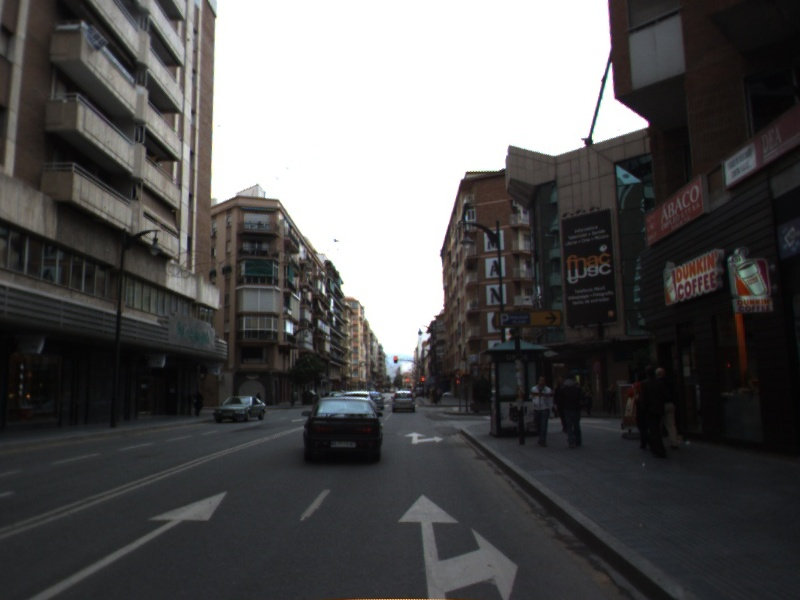STRAIGHT: (29, 489, 229, 600)
STRAIGHT_RIGHT: (396, 492, 520, 600), (402, 430, 446, 446)
